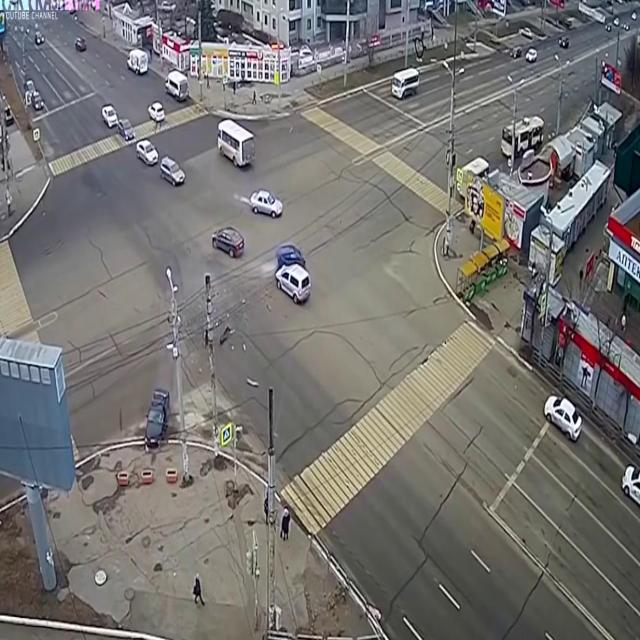accident: (136, 358, 175, 474), (268, 234, 316, 312)
